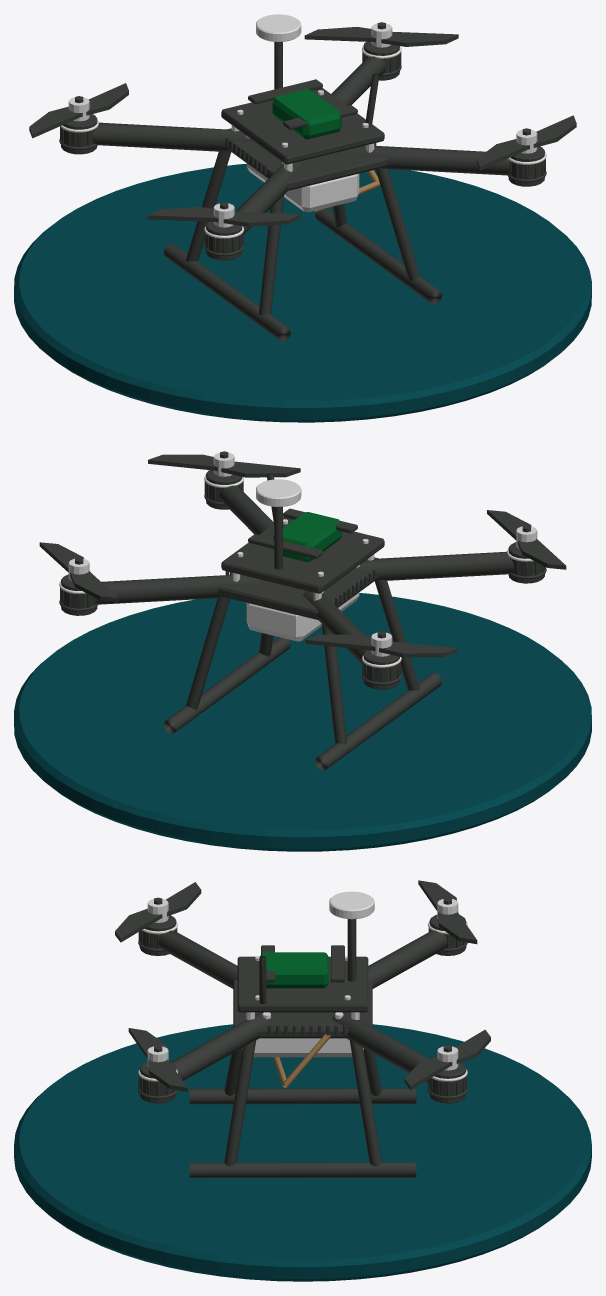
Rendered from holybro-x500-v2.glb.
3 views of the same model, one above another, from view 1: azimuth 30°, elevation 25°; view 2: azimuth 150°, elevation 25°; view 3: azimuth 270°, elevation 25° (orthographic).
Visible parts, largest first — view 1: pedestal, body; view 2: pedestal, body; view 3: pedestal, body.
Part boxes in pixels (x1,y1,x2,y2): pedestal: (14, 163, 591, 422); body: (29, 14, 576, 341); pedestal: (14, 593, 591, 851); body: (39, 451, 566, 770); pedestal: (14, 1024, 591, 1281); body: (115, 880, 490, 1177).
Size of the model in its own units: 4.4 by 2.19 by 4.4.
